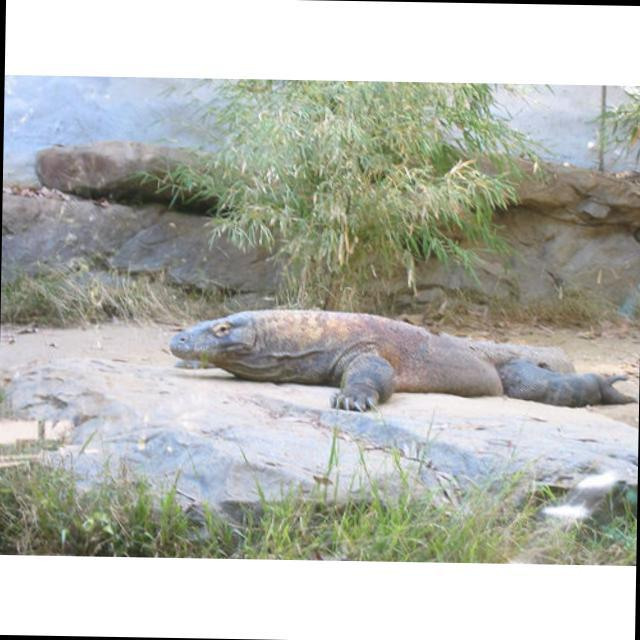KomodoDragon: (170, 289, 640, 414)
